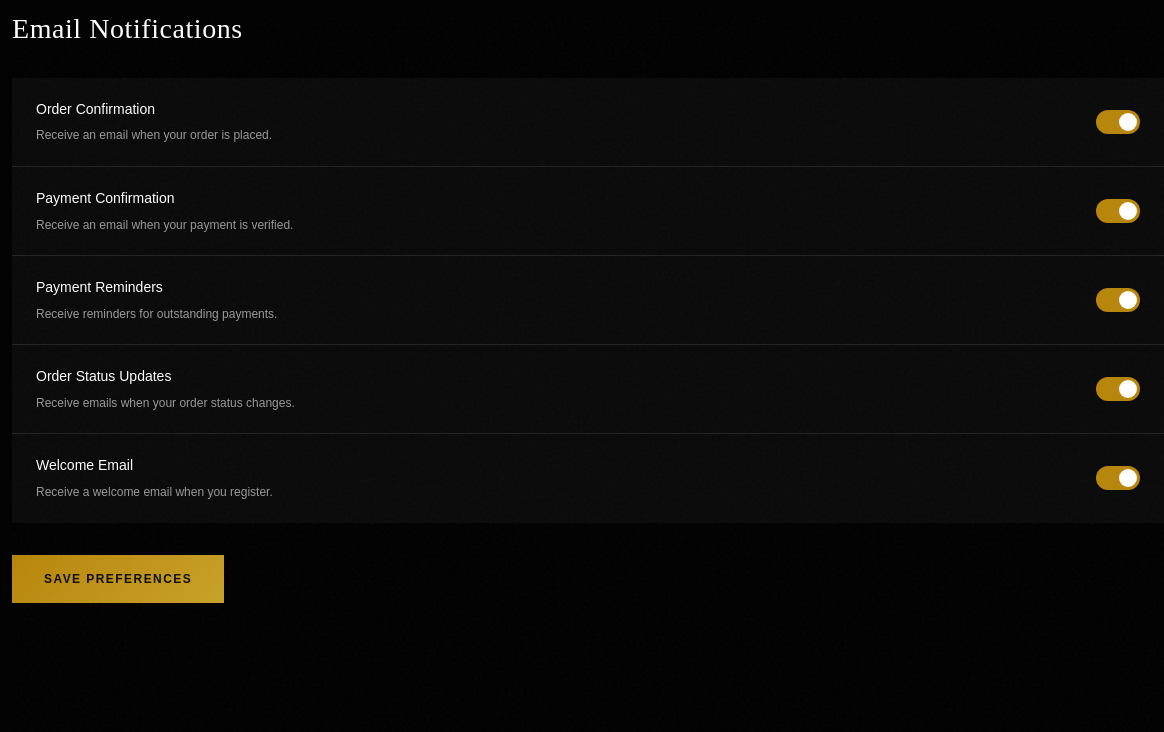
Scenario: NotificationPreferencesForm › shows success message after save
This screenshot has width=1164, height=732.
Click the button "Save Preferences".
click(118, 579)  # box [12,554,224,603]
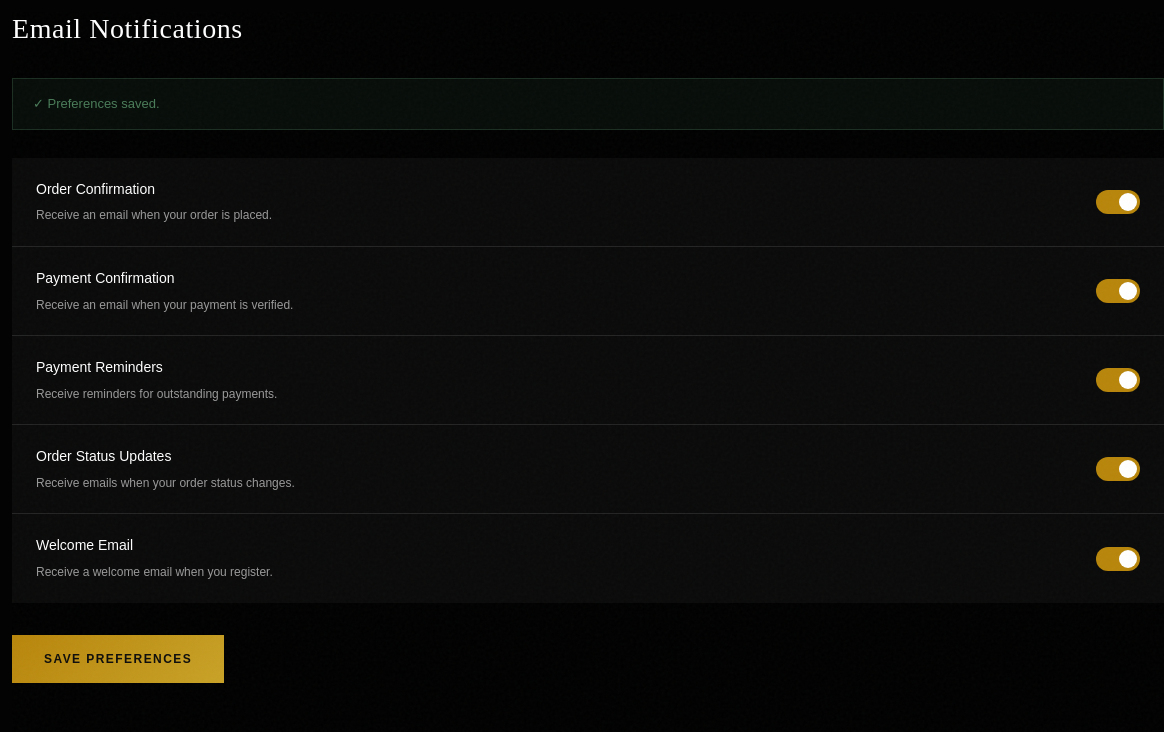
Result: the text "✓ Preferences saved." is shown at [12,78,1163,130]
